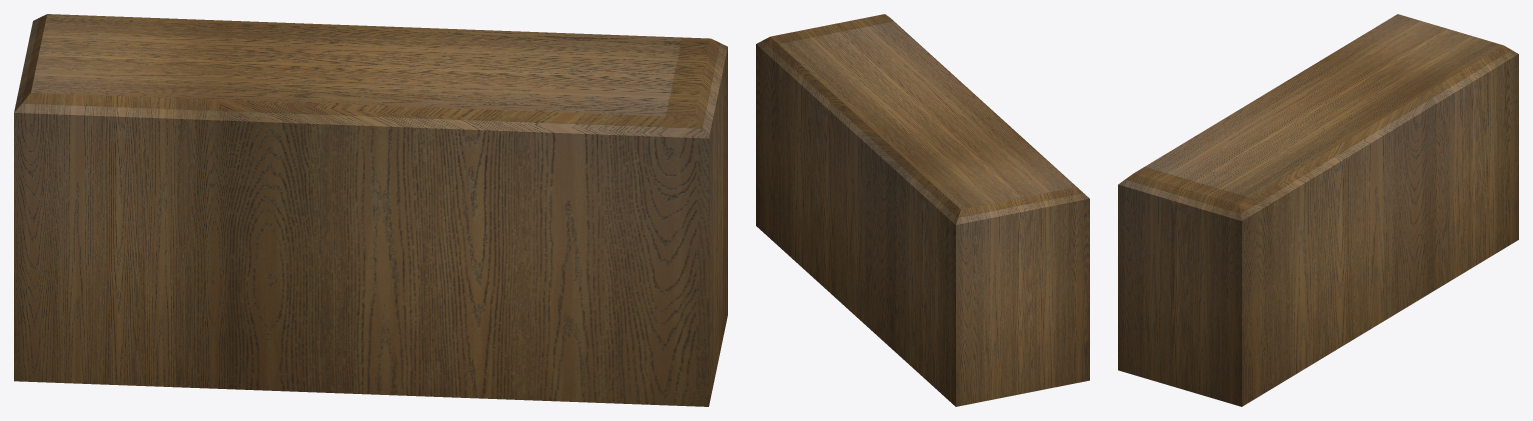
Rendered from Obstacle_013.obj.
The picture shows the model from 3 angles, left to right: view 1: azimuth 30°, elevation 25°; view 2: azimuth 150°, elevation 25°; view 3: azimuth 270°, elevation 25°; orthographic projection. The views are drawn at different scales.
Parts seen in each view (by area): view 1: Box123; view 2: Box123; view 3: Box123.
Part boxes in pixels (x1,y1,x2,y2): Box123: (14, 14, 727, 406); Box123: (756, 14, 1089, 406); Box123: (1118, 14, 1518, 406).
Size of the model in its own units: 87.97 by 39.37 by 73.1.
